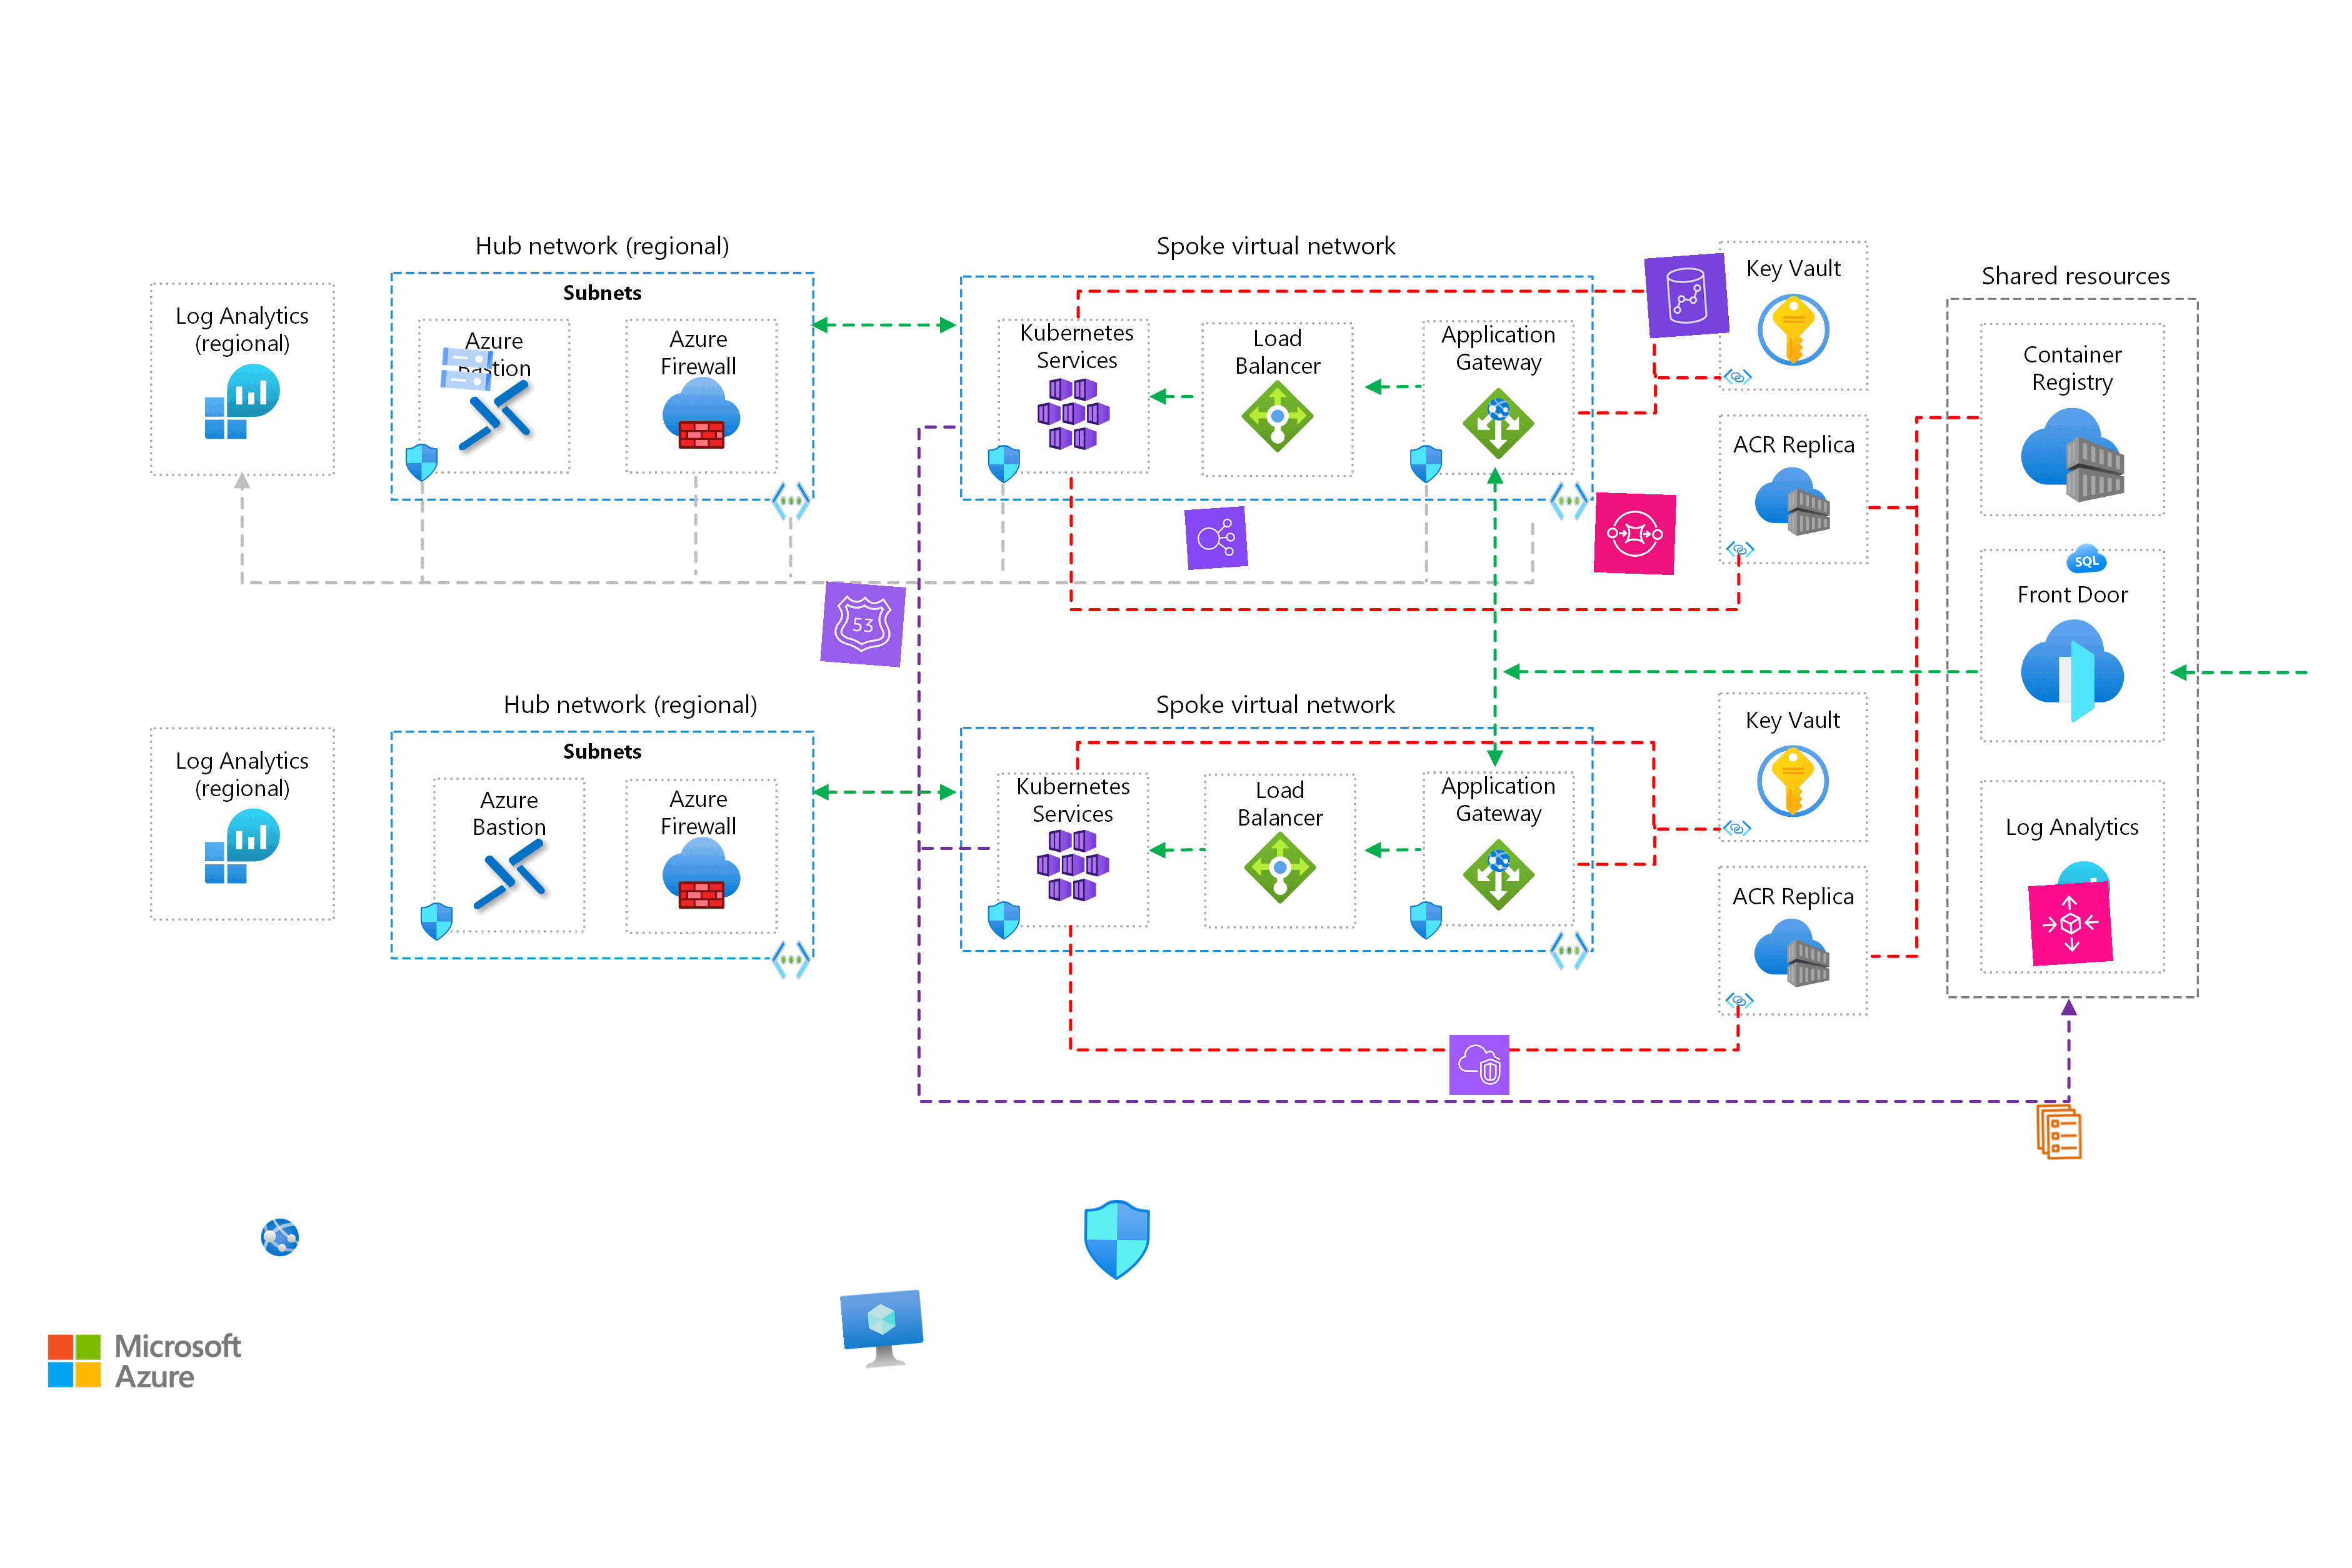aws_amazon_redshift: (1643, 252, 1731, 339)
aws_amazon_route_53: (821, 581, 906, 667)
aws_amazon_simple_queue_service: (1592, 492, 1677, 576)
aws_amazon_virtual_private_cloud: (1449, 1034, 1510, 1095)
aws_auto_scaling: (2028, 880, 2114, 966)
aws_elastic_container_service_service: (2028, 1101, 2089, 1162)
aws_elastic_load_balancing: (1183, 506, 1249, 570)
azure_app_services: (259, 1216, 301, 1258)
azure_network_security_groups: (1076, 1199, 1157, 1281)
azure_sql: (2065, 537, 2109, 581)
azure_virtual_machine: (840, 1288, 927, 1375)
gcp_cloud_storage: (434, 336, 499, 402)
